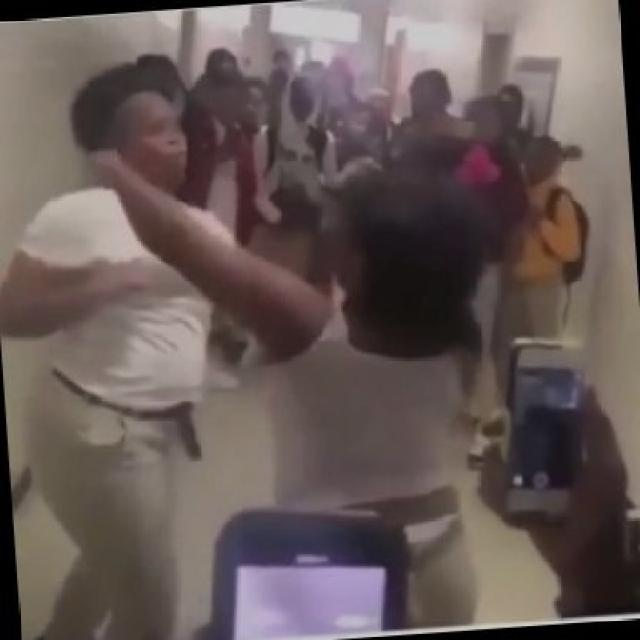fight: (0, 1, 608, 638)
